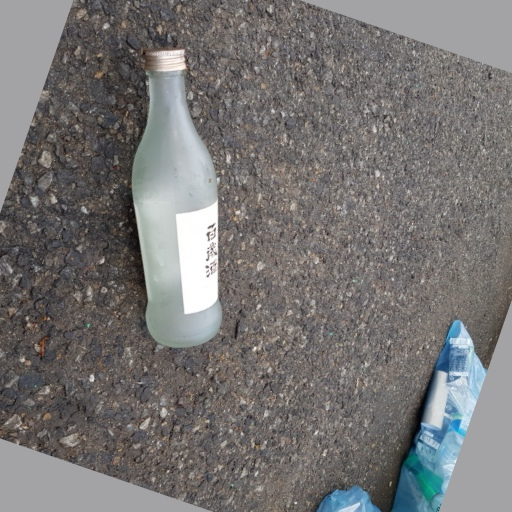Glass_0: (131, 47, 225, 354)
